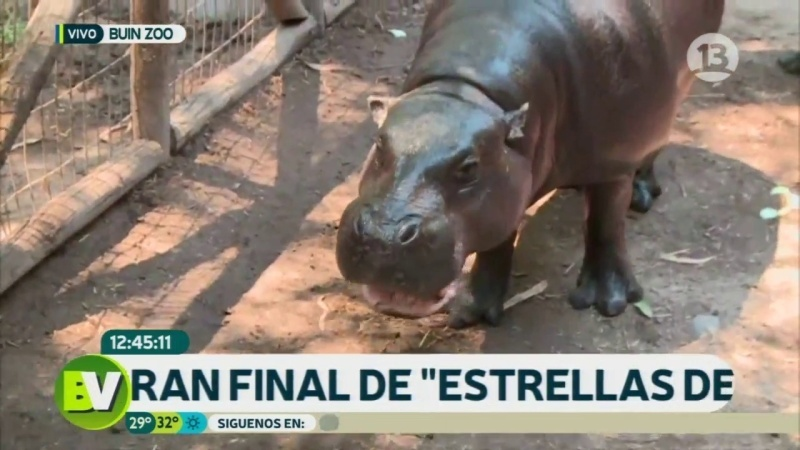hipopotamo: (324, 1, 742, 351)
